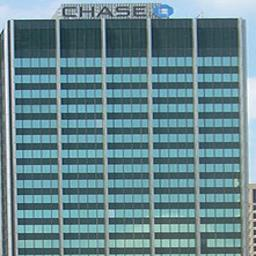building: (6, 2, 251, 256)
